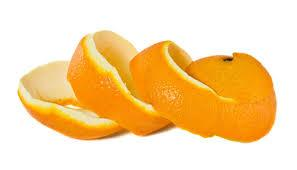Organic: (13, 25, 297, 170)
